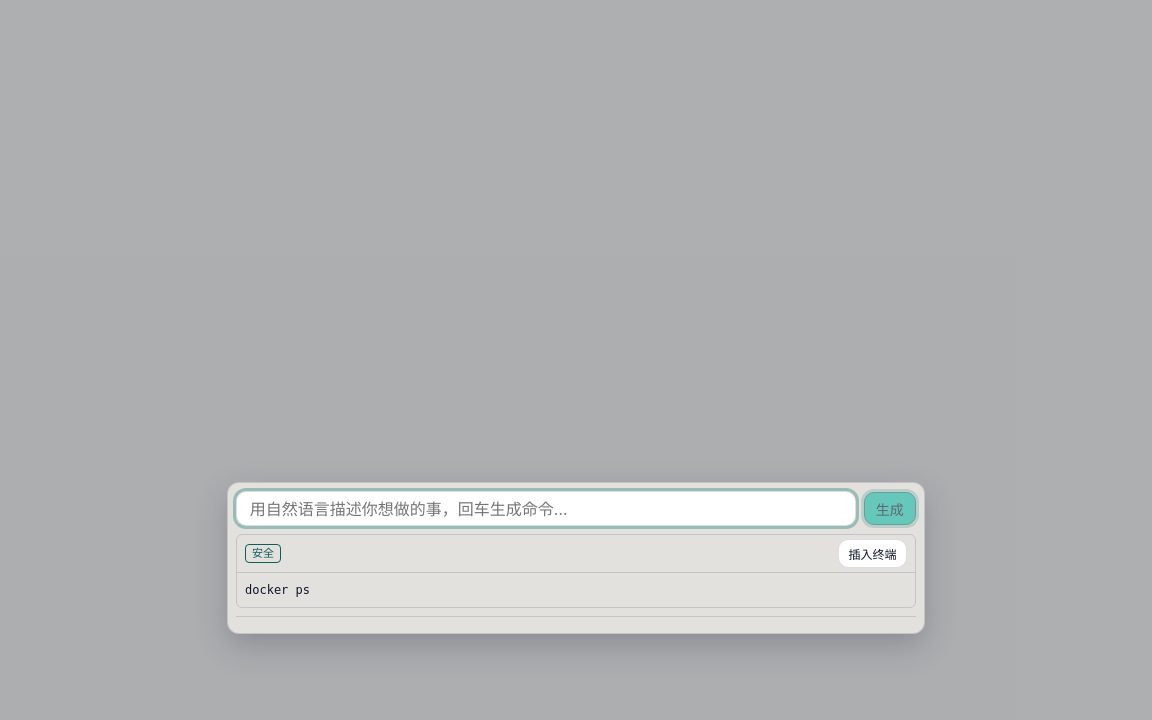
I-2（fix round 1）：scope 已撤销（close 生命周期）→ 插入失败态优雅呈现
Click the button with test id "ai-insert" at (872, 553), box left=838, top=539, right=907, bottom=568
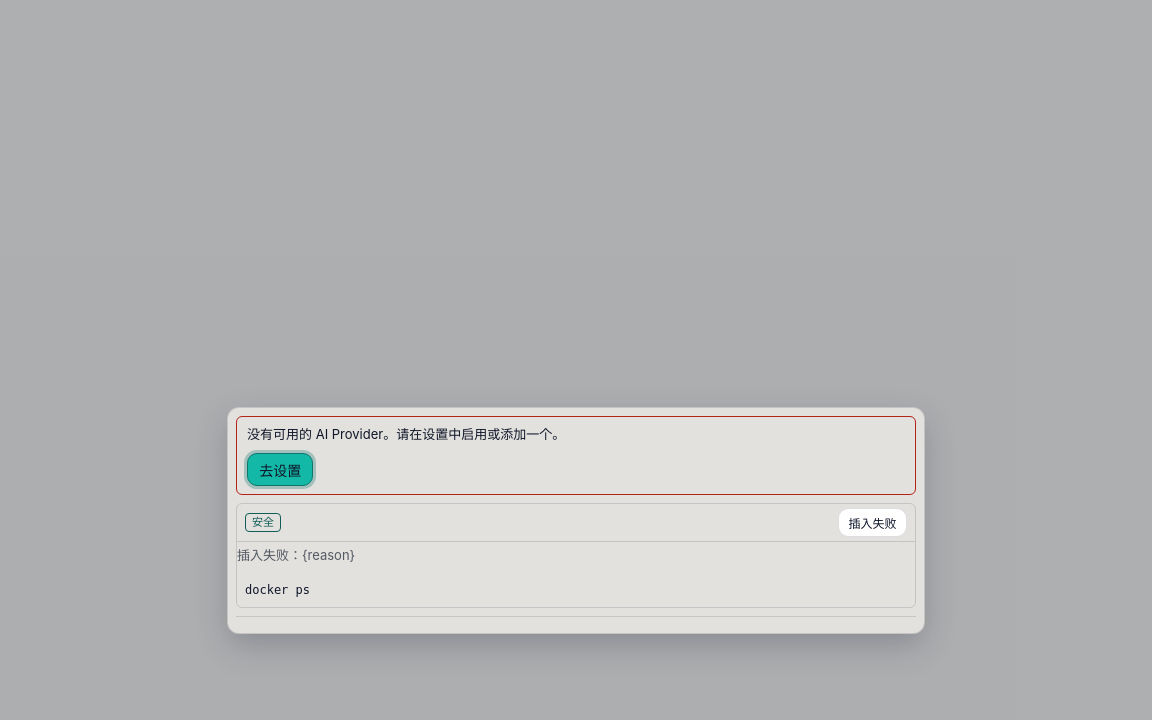
Now the button with test id "ai-insert" reads "插入失败", box left=838, top=508, right=907, bottom=537
